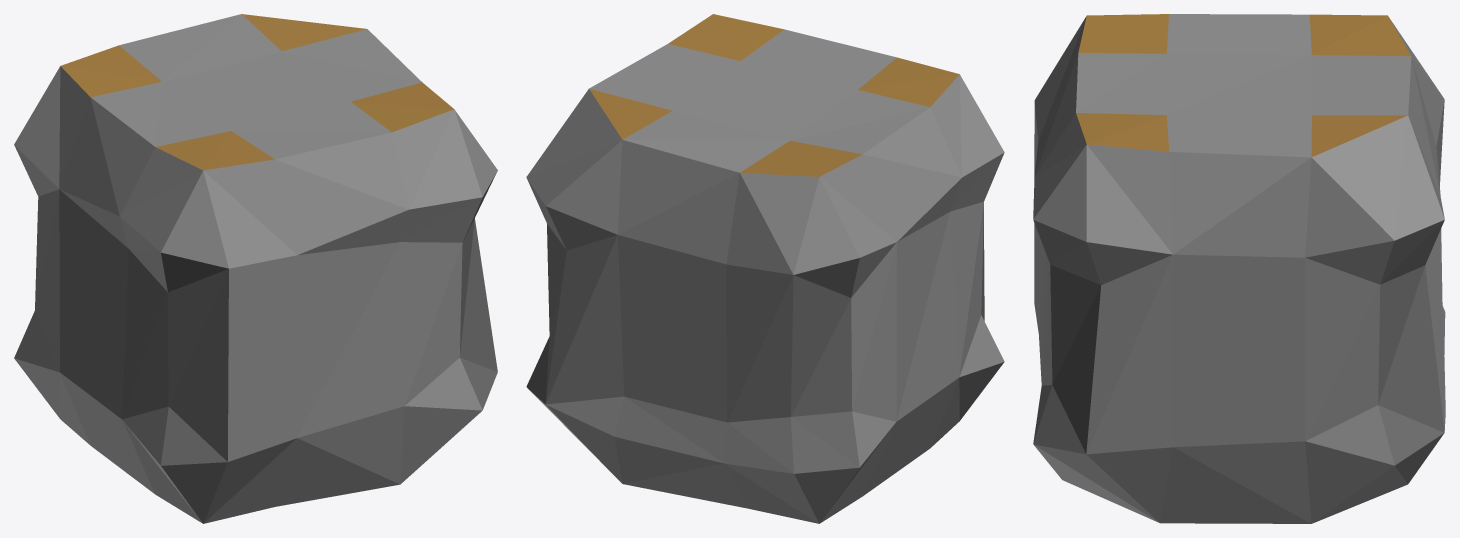
Rendered from kit_crate.glb.
3 views of the same model, side by side, from view 1: azimuth 30°, elevation 25°; view 2: azimuth 150°, elevation 25°; view 3: azimuth 270°, elevation 25° (orthographic). The views are drawn at different scales.
Parts seen in each view (by area): view 1: kit_crate; view 2: kit_crate; view 3: kit_crate.
Part boxes in pixels (x1,y1,x2,y2): kit_crate: (14,14,497,523); kit_crate: (526,14,1004,523); kit_crate: (1033,14,1445,523).
Bounding box in the file's own units: 0.8008 × 0.7971 × 0.8009.
